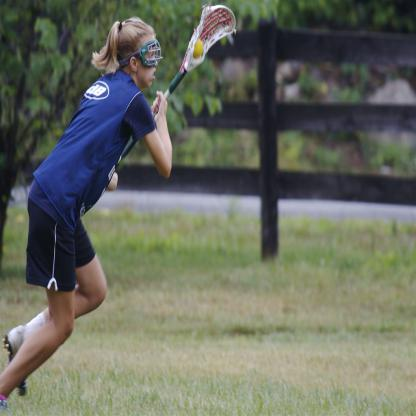Ball: (193, 38, 203, 60)
